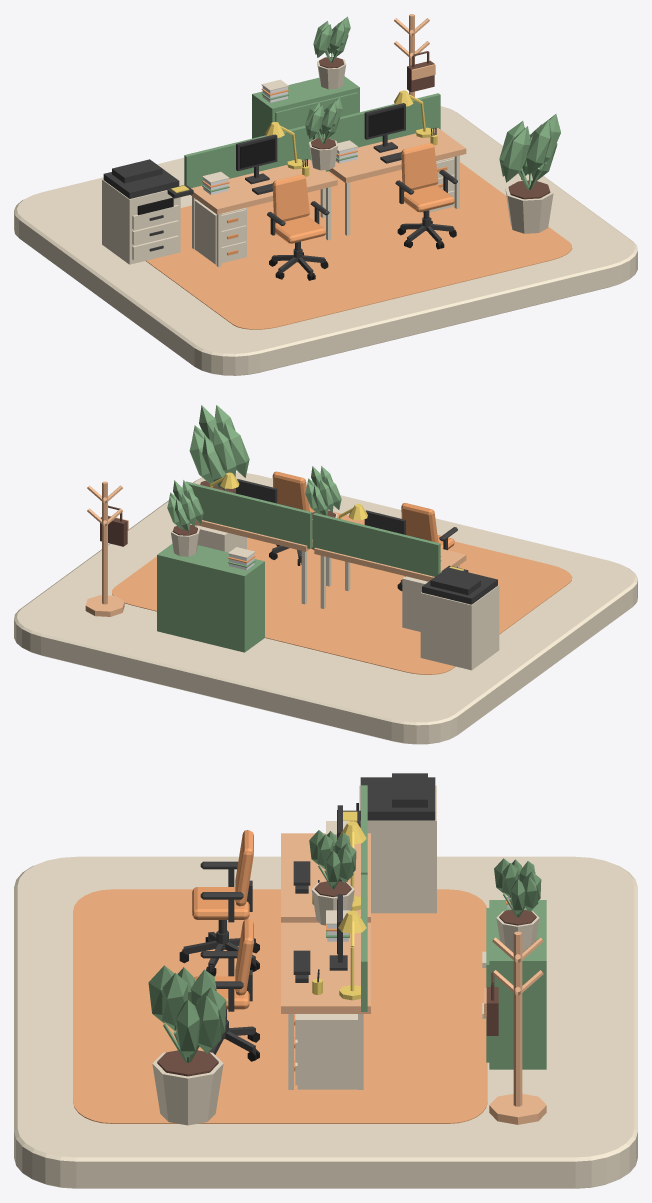
3 renders of one model, top to bottom at view 1: azimuth 30°, elevation 25°; view 2: azimuth 150°, elevation 25°; view 3: azimuth 270°, elevation 25°, orthographic. The views are drawn at different scales.
Parts seen in each view (by area): view 1: AST-001-0, AST-002-0, AST-009-0, AST-010-2, AST-003-0, AST-003-1, AST-004-0, AST-004-1, AST-015-0, AST-013-0, AST-008-0, AST-013-1 (+9 smaller); view 2: AST-001-0, AST-002-0, AST-015-0, AST-009-0, AST-013-0, AST-013-1, AST-010-2, AST-010-1, AST-016-0, AST-004-0, AST-003-0, AST-010-0 (+8 smaller); view 3: AST-001-0, AST-002-0, AST-009-0, AST-010-2, AST-004-1, AST-015-0, AST-008-1, AST-003-0, AST-016-0, AST-004-0, AST-003-1, AST-010-1 (+7 smaller).
Boxes of the visible parts, bbox=[...] form: AST-001-0: bbox=[14, 106, 637, 375]; AST-002-0: bbox=[146, 162, 572, 329]; AST-009-0: bbox=[102, 159, 193, 264]; AST-010-2: bbox=[499, 114, 560, 233]; AST-003-0: bbox=[267, 174, 329, 280]; AST-003-1: bbox=[395, 143, 457, 249]; AST-004-0: bbox=[190, 159, 337, 267]; AST-004-1: bbox=[320, 128, 466, 235]; AST-015-0: bbox=[252, 76, 359, 171]; AST-013-0: bbox=[184, 125, 312, 187]; AST-008-0: bbox=[194, 199, 246, 264]; AST-013-1: bbox=[312, 93, 440, 147]; AST-001-0: bbox=[14, 472, 637, 744]; AST-002-0: bbox=[112, 511, 572, 674]; AST-015-0: bbox=[157, 543, 264, 652]; AST-009-0: bbox=[420, 565, 499, 670]; AST-013-0: bbox=[312, 513, 440, 576]; AST-013-1: bbox=[186, 481, 312, 548]; AST-010-2: bbox=[189, 405, 249, 493]; AST-010-1: bbox=[167, 480, 203, 556]; AST-016-0: bbox=[85, 481, 124, 616]; AST-004-0: bbox=[314, 547, 466, 608]; AST-003-0: bbox=[397, 503, 457, 590]; AST-010-0: bbox=[305, 466, 341, 538]; AST-001-0: bbox=[14, 856, 637, 1188]; AST-002-0: bbox=[73, 889, 487, 1123]; AST-009-0: bbox=[343, 773, 436, 913]; AST-010-2: bbox=[148, 965, 226, 1125]; AST-004-1: bbox=[281, 922, 370, 1089]; AST-015-0: bbox=[482, 900, 546, 1069]; AST-008-1: bbox=[294, 1014, 357, 1089]; AST-003-0: bbox=[179, 830, 259, 976]; AST-016-0: bbox=[489, 931, 546, 1124]; AST-004-0: bbox=[281, 833, 370, 922]; AST-003-1: bbox=[194, 919, 259, 1061]; AST-010-1: bbox=[494, 858, 541, 952].
Bounding box in the file's own units: 6 × 2.17 × 5.2.
1 material, 1 textured.
